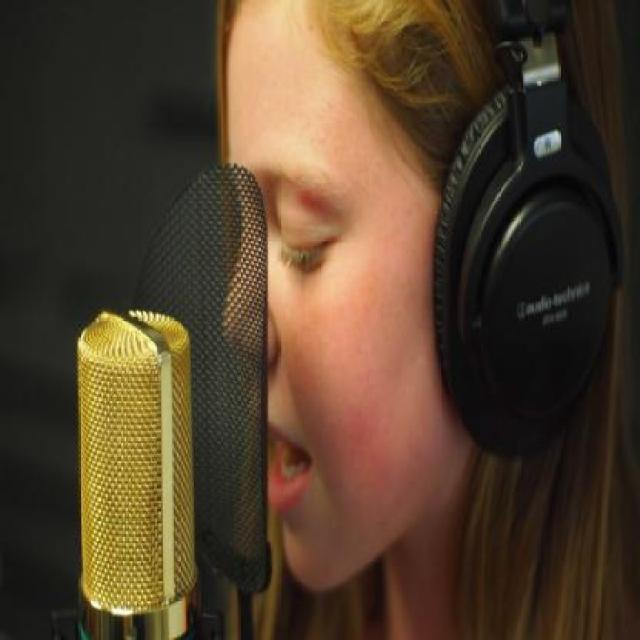earphone: (420, 0, 622, 490)
